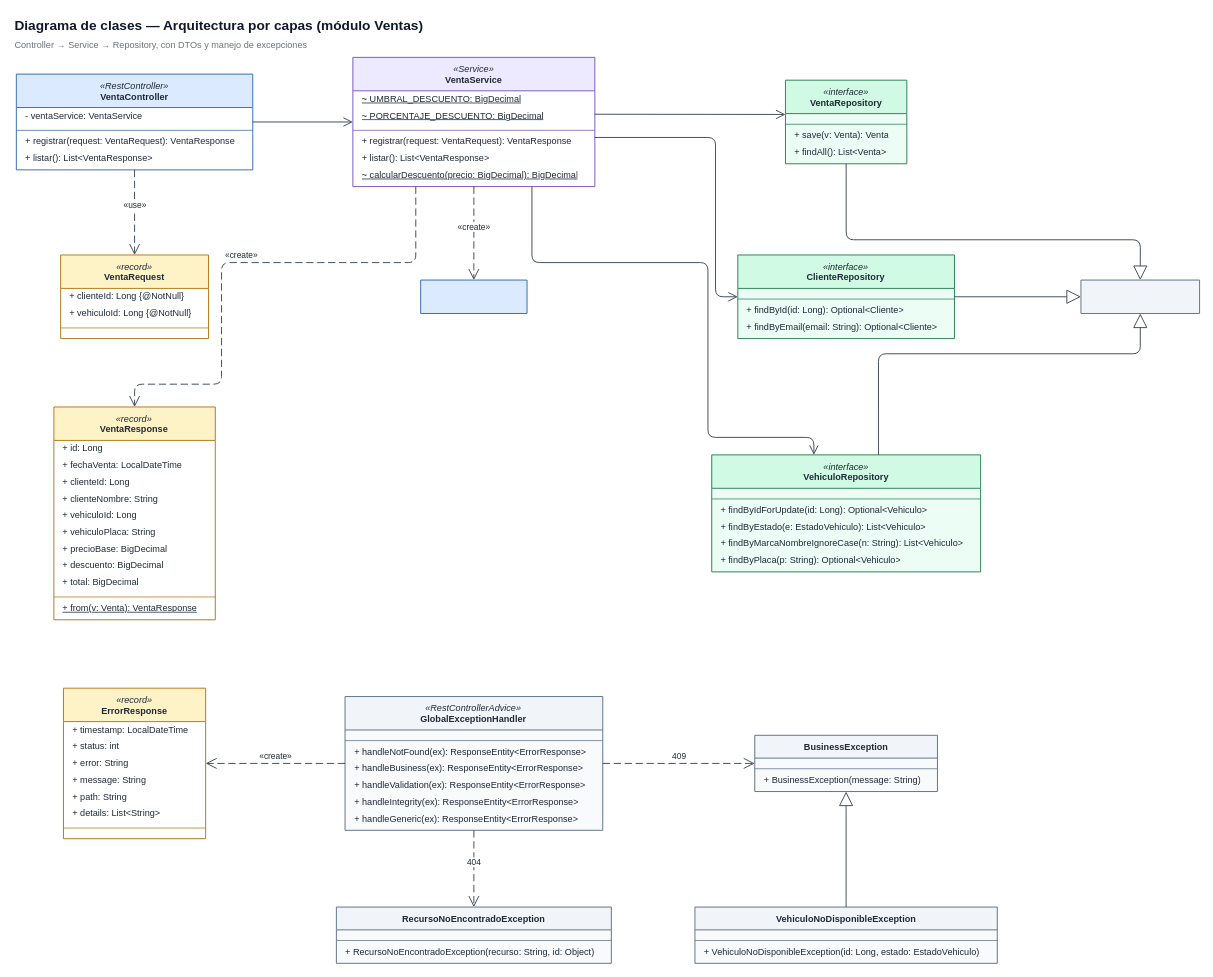
This 1213x977 diagram has some shape labels left out. The centre of each missing label's shape, as x and y in pixels:
"«Entity» Venta" goes at (473,296).
"«interface» JpaRepository<T, ID>" goes at (1140,296).
